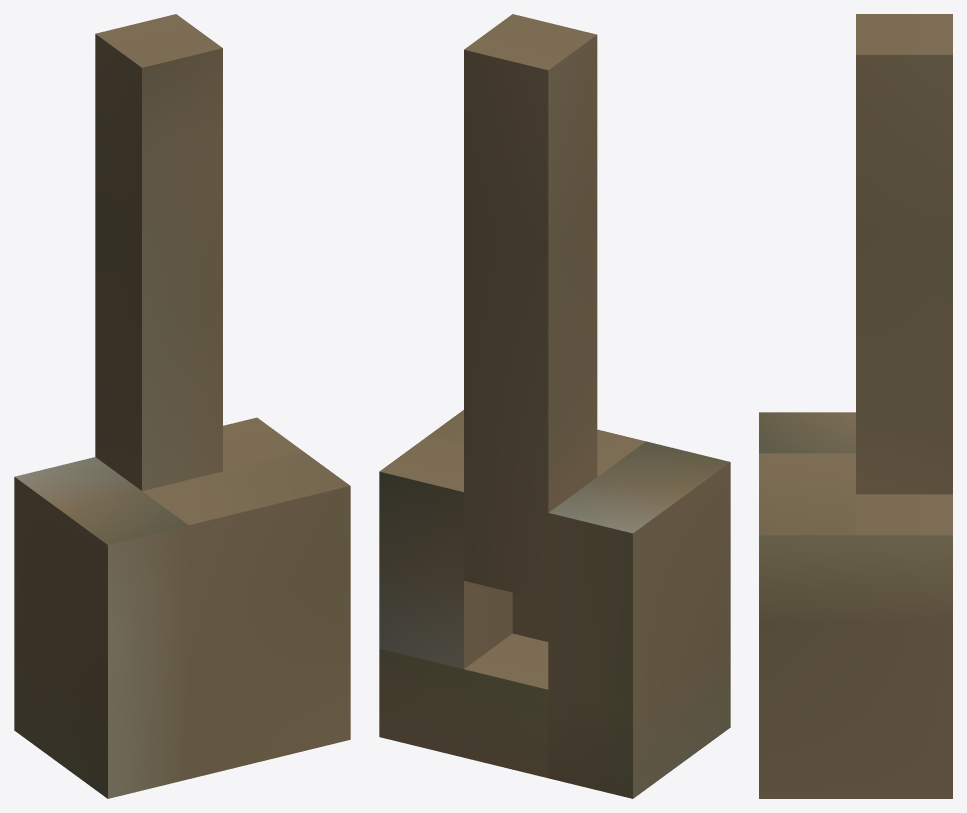
The model's file is SoupLadle_B_00.fbx.
The picture shows the model from 3 angles, left to right: view 1: azimuth 30°, elevation 25°; view 2: azimuth 150°, elevation 25°; view 3: azimuth 270°, elevation 25°; orthographic projection. The views are drawn at different scales.
Parts seen in each view (by area): view 1: SoupLadle_B_00; view 2: SoupLadle_B_00; view 3: SoupLadle_B_00.
Part boxes in pixels (bbox=[...]): SoupLadle_B_00: bbox=[14, 14, 350, 798]; SoupLadle_B_00: bbox=[379, 14, 730, 798]; SoupLadle_B_00: bbox=[759, 14, 952, 798].
Size of the model in its own units: 15 by 10 by 40.
Materials: 1 (1 with a texture image).
